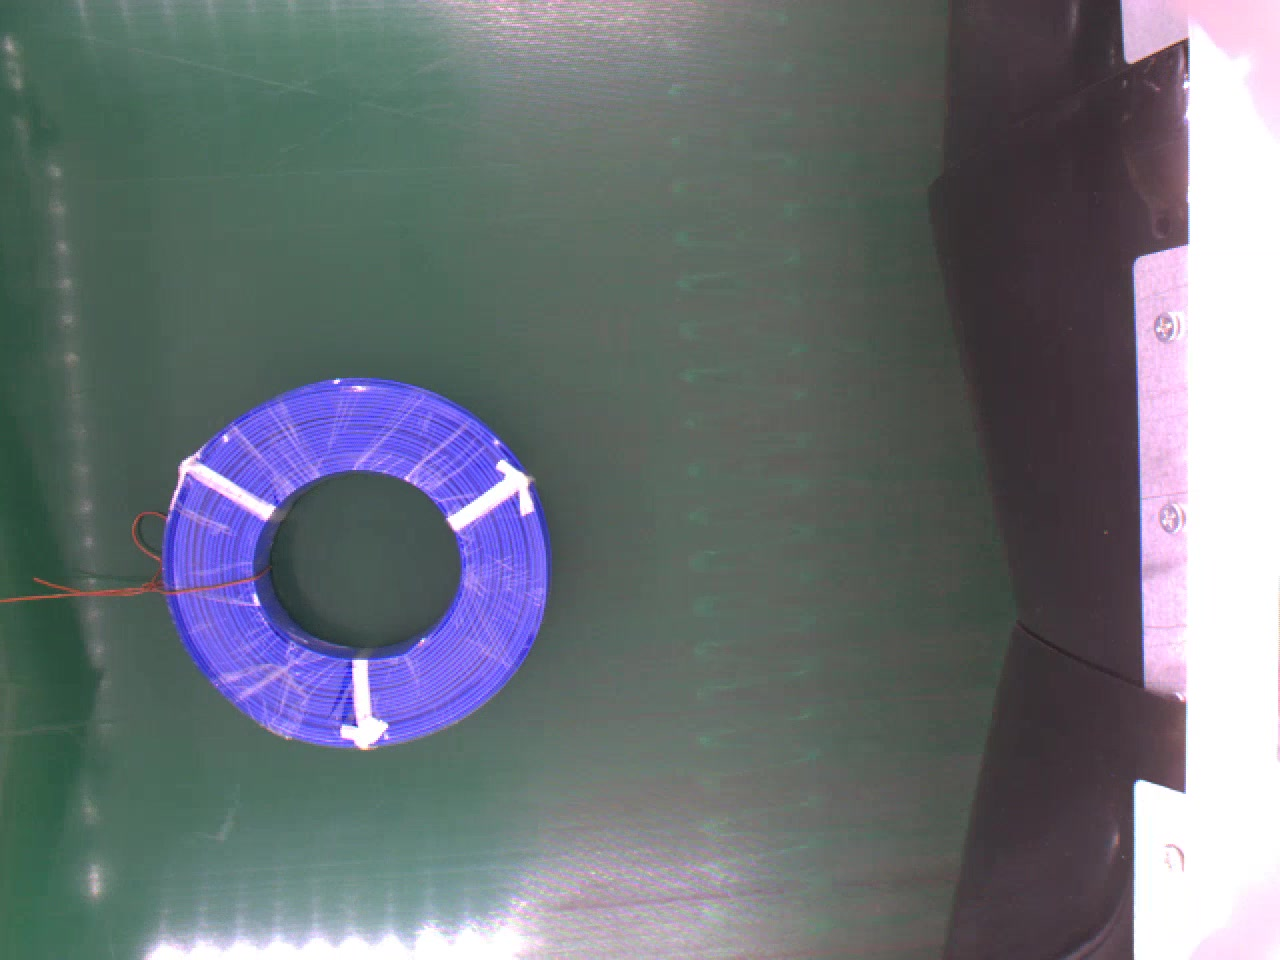blue: (159, 374, 552, 748)
